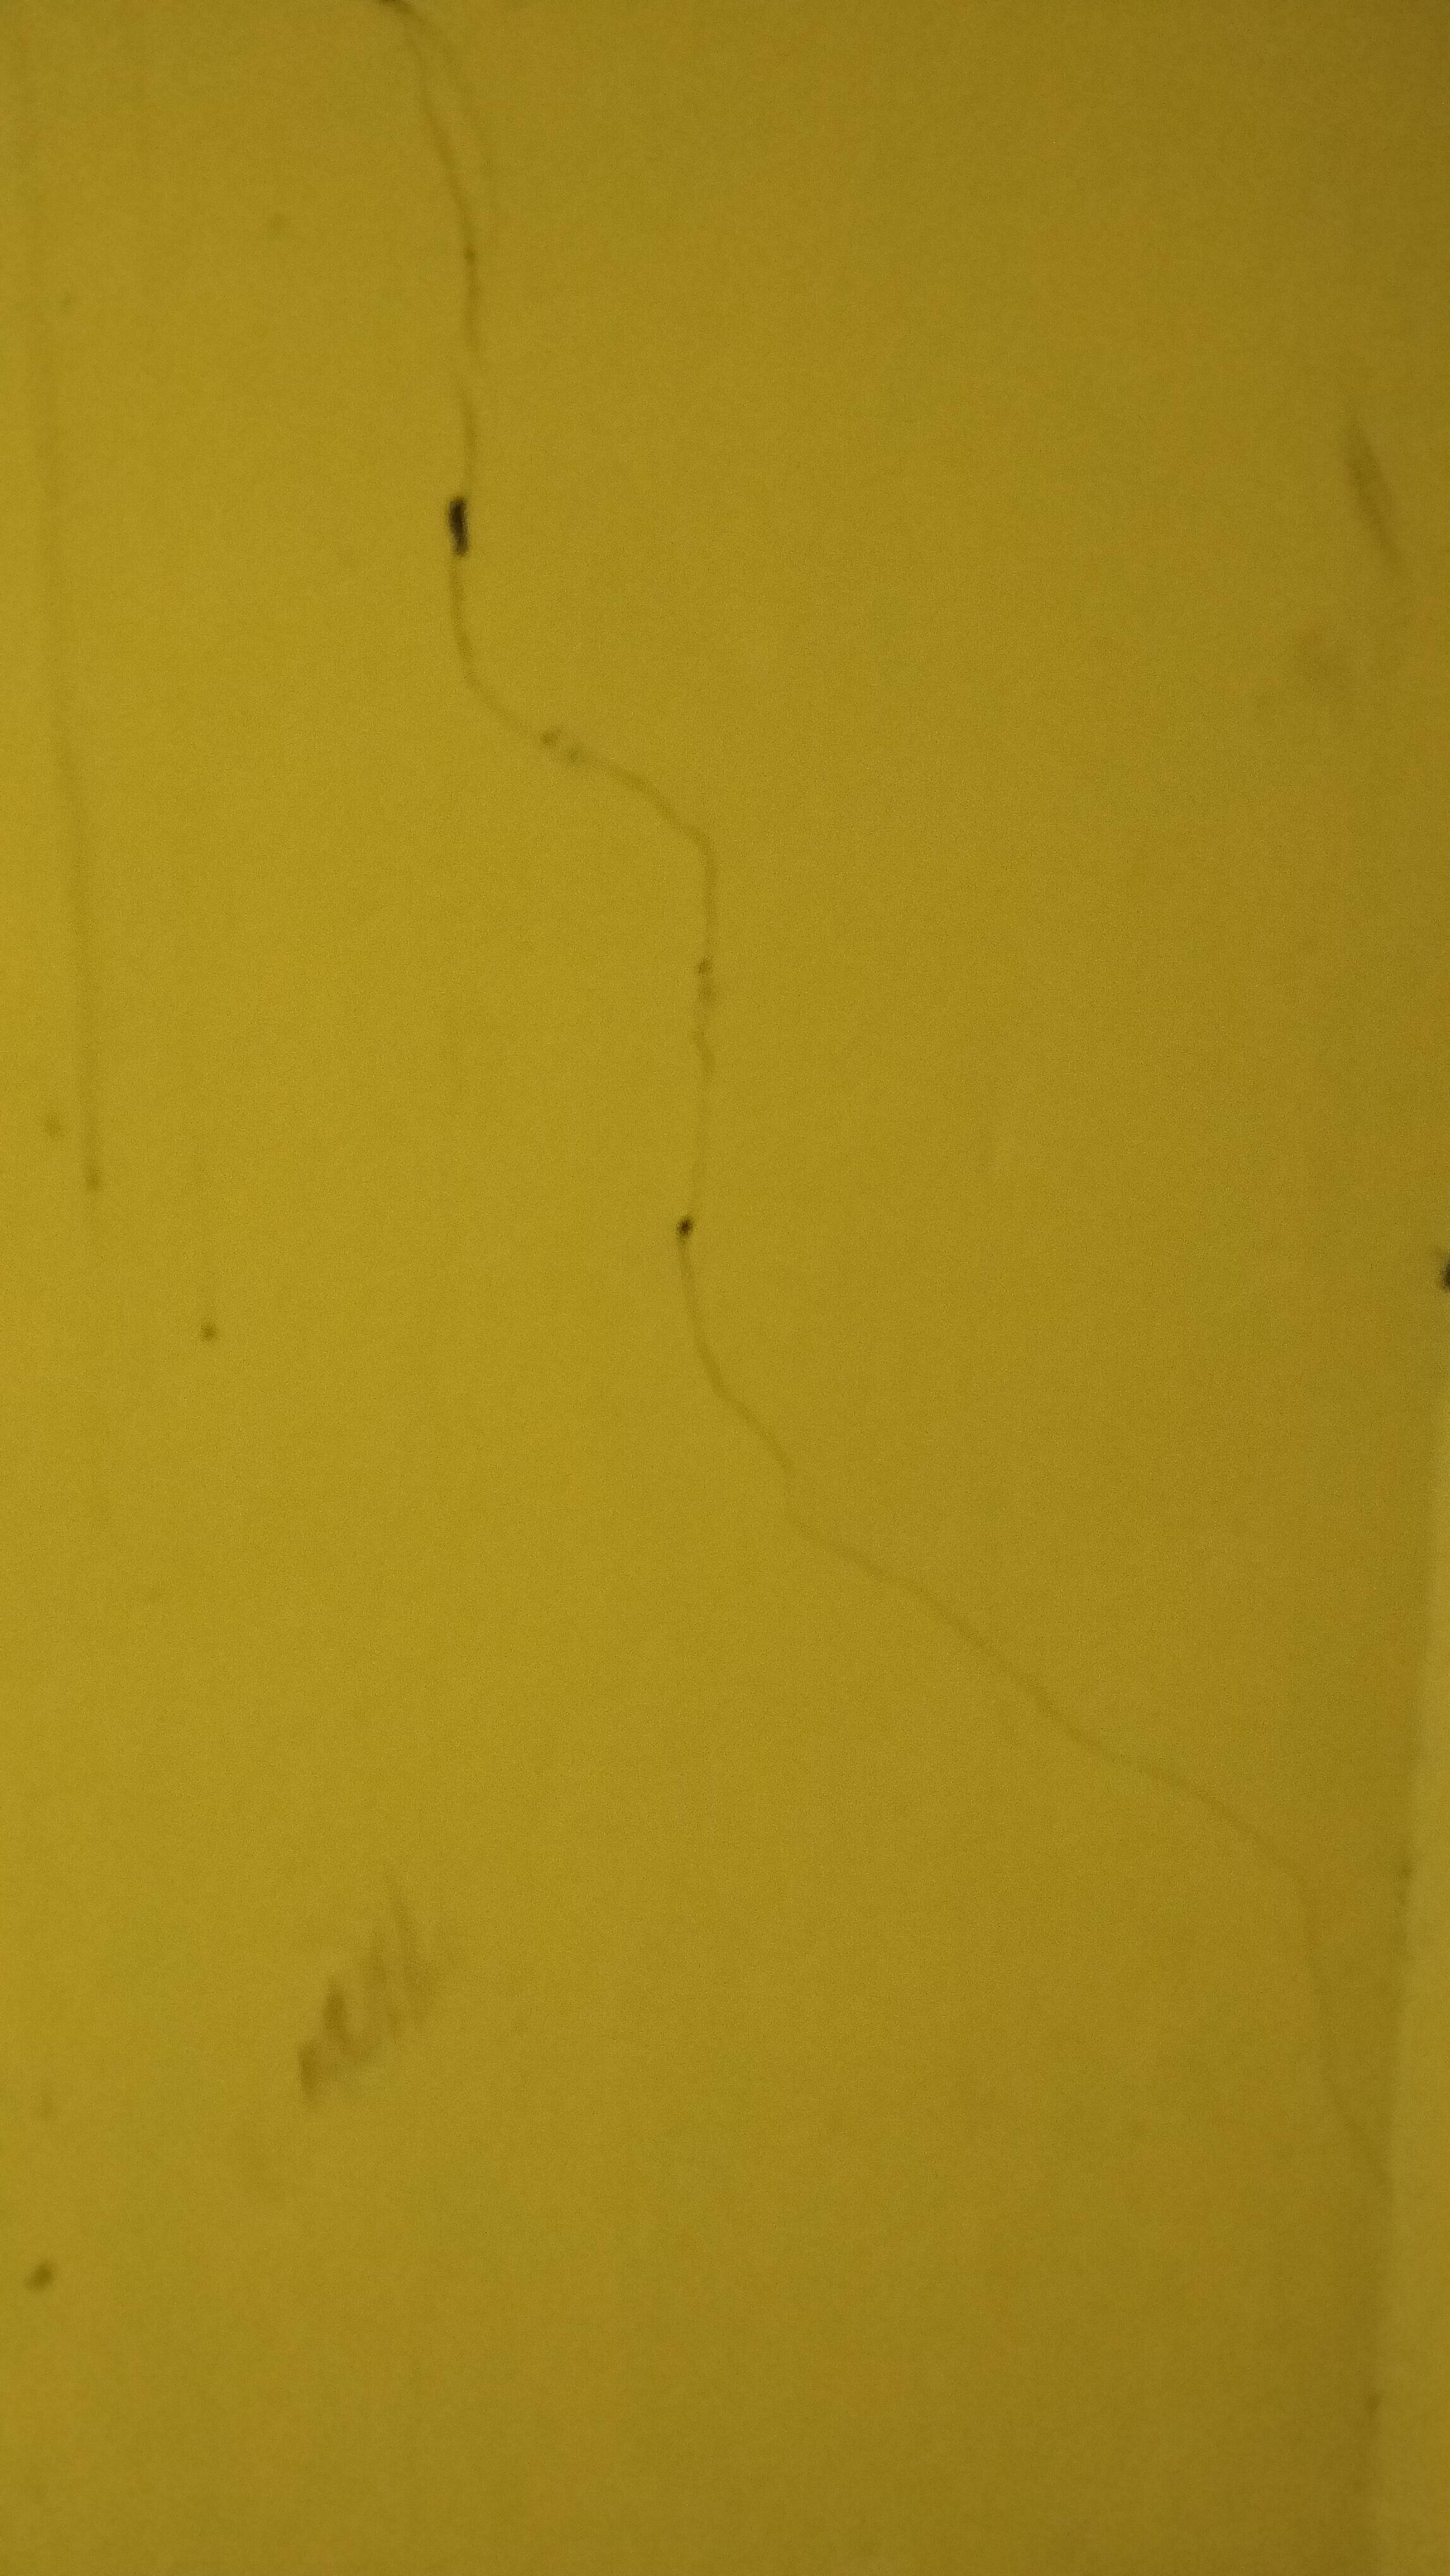Crack: (402, 239, 738, 872), (629, 855, 800, 1507)
